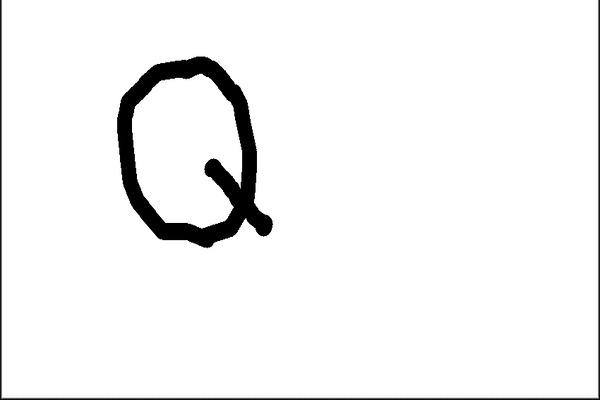Q: (97, 45, 290, 252)
